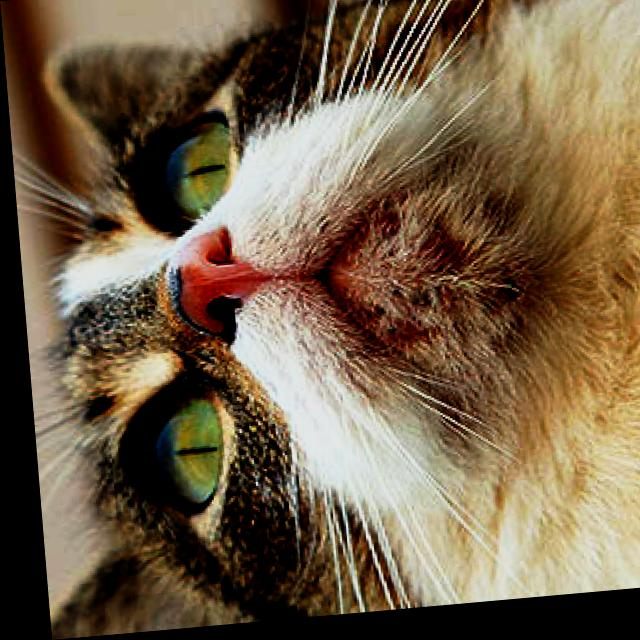acne: (396, 279, 456, 327), (353, 303, 411, 340), (394, 285, 403, 295)
